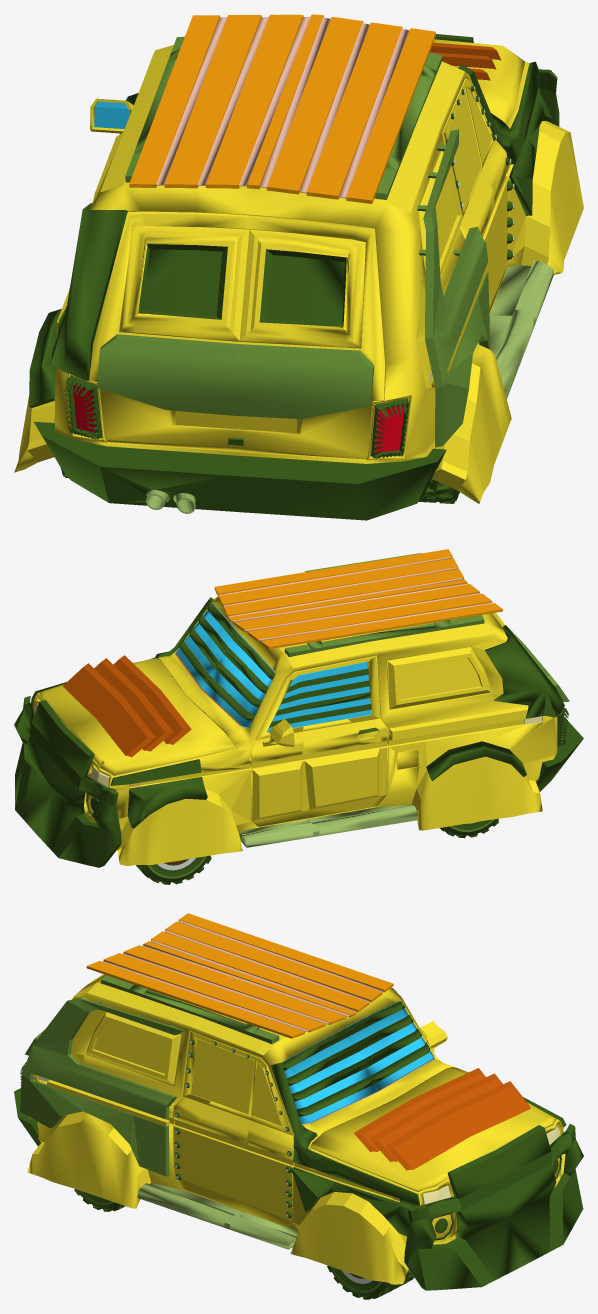
Rendered from ToyObject_023.fbx.
3 renders of one model, top to bottom at view 1: azimuth 30°, elevation 25°; view 2: azimuth 150°, elevation 25°; view 3: azimuth 270°, elevation 25°, orthographic. The views are drawn at different scales.
Visible parts, largest first — view 1: object-1; view 2: object-1; view 3: object-1.
Boxes of the visible parts, x1=… form: object-1: x1=14, y1=14, x2=583, y2=520; object-1: x1=14, y1=549, x2=583, y2=884; object-1: x1=14, y1=913, x2=583, y2=1299.
Size of the model in its own units: 0.1893 by 0.0845 by 0.204.
Materials: 4 (1 with a texture image).
